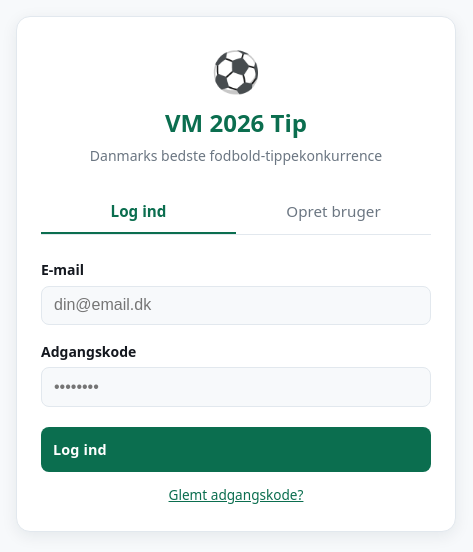
Test: LoginPage › viser nulstillingsformular ved klik på Glemt adgangskode
Click the button "Glemt adgangskode?" at (236, 495), box [162,484,309,507]
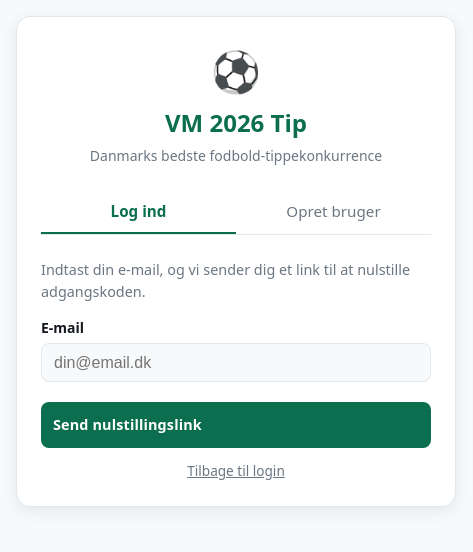
Now the button "Send nulstillingslink" is shown, box [41,402,431,448]
